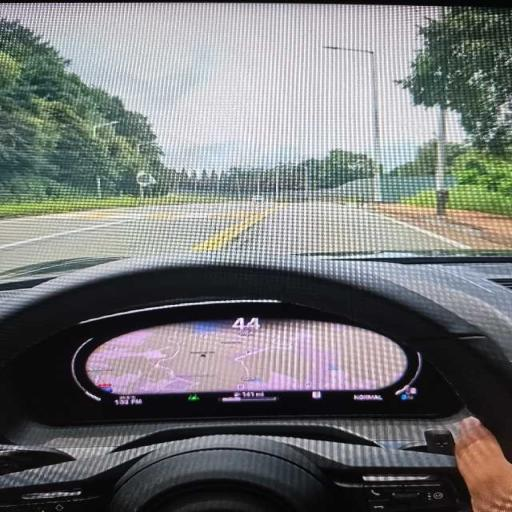car: (0, 3, 511, 511), (0, 256, 511, 511), (252, 196, 265, 202)
lane: (0, 202, 460, 271), (0, 203, 268, 271), (230, 202, 463, 253)
person: (456, 418, 511, 511)
